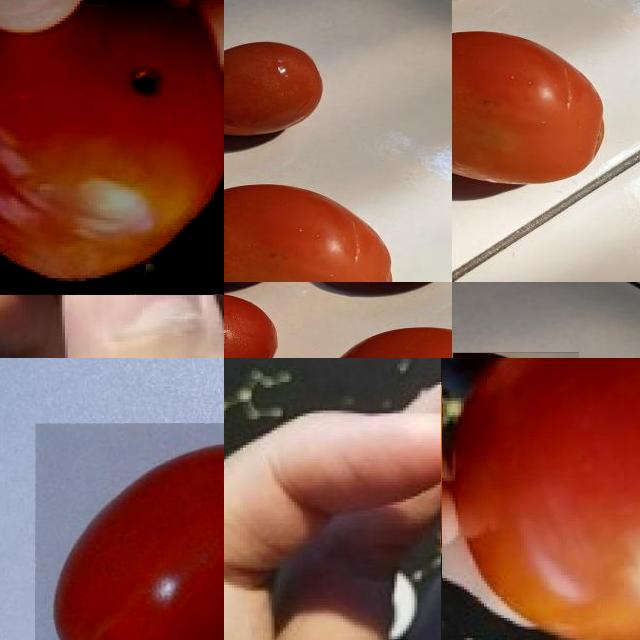0: (35, 423, 224, 640)
1: (0, 0, 224, 294)
Rotten Tomato: (441, 358, 640, 640)
